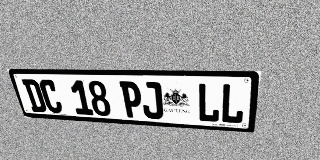1: (68, 80, 94, 115)
8: (87, 80, 112, 116)
C: (38, 79, 64, 113)
D: (21, 79, 48, 113)
J: (140, 82, 164, 119)
L: (220, 83, 246, 124), (197, 83, 221, 123)
P: (119, 81, 143, 118)
